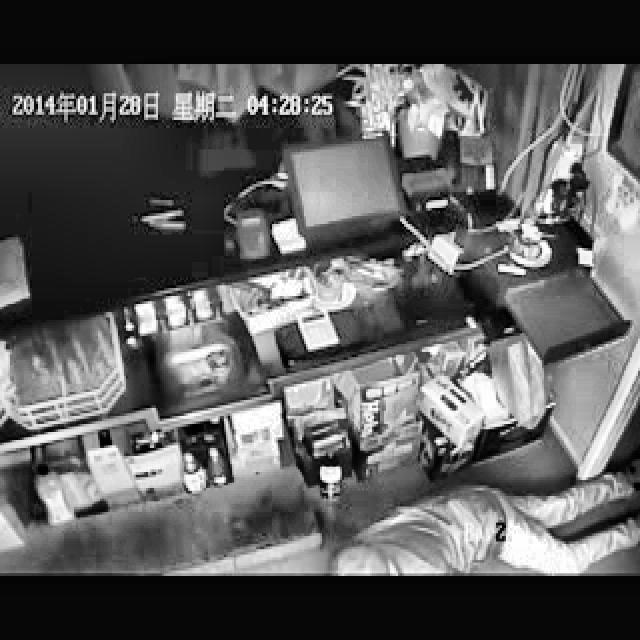burglary: (323, 467, 640, 575)
